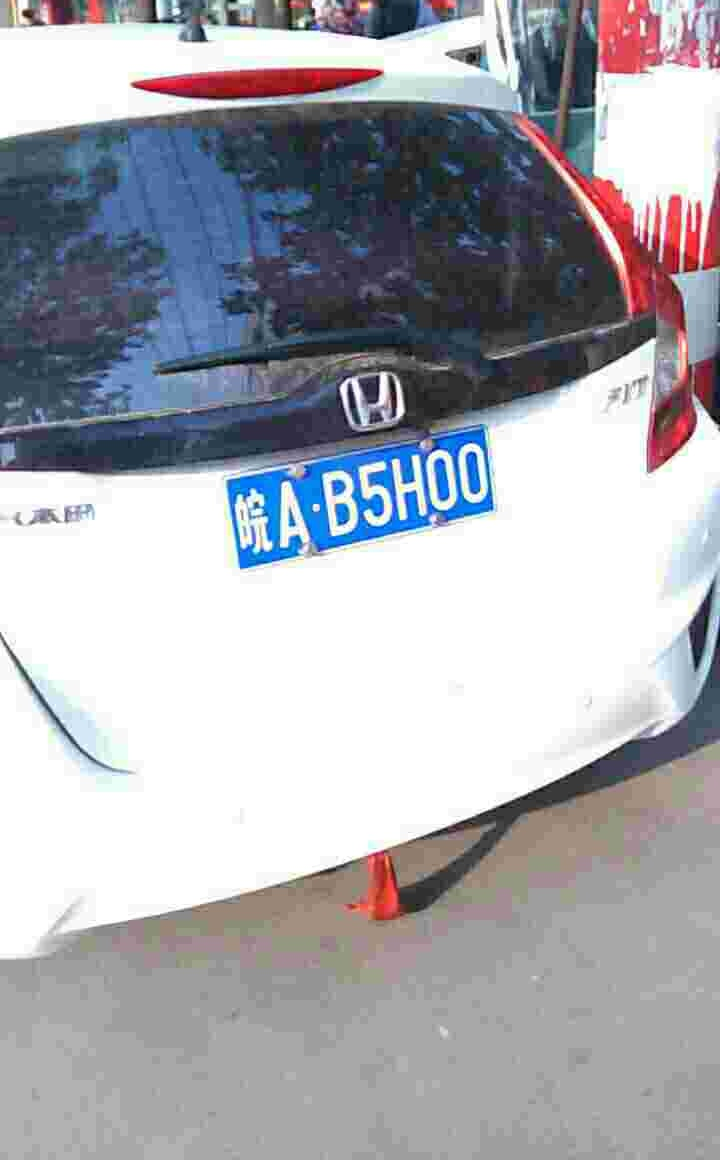car: (228, 446, 491, 528)
